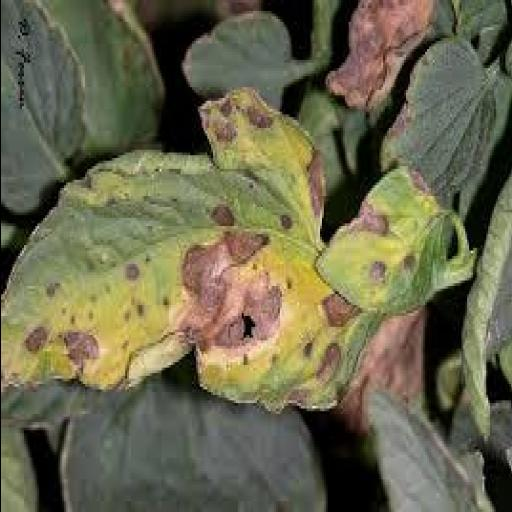Early Blight: (0, 96, 375, 415), (312, 164, 460, 320)
